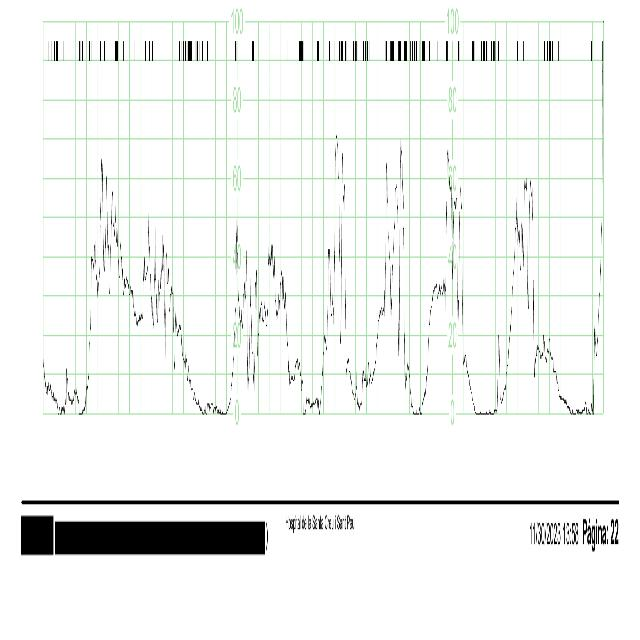contraction: (83, 151, 131, 409), (423, 143, 469, 407), (319, 137, 350, 409), (374, 141, 410, 374), (501, 170, 537, 399), (226, 208, 262, 413), (140, 218, 178, 322), (266, 241, 278, 313)
